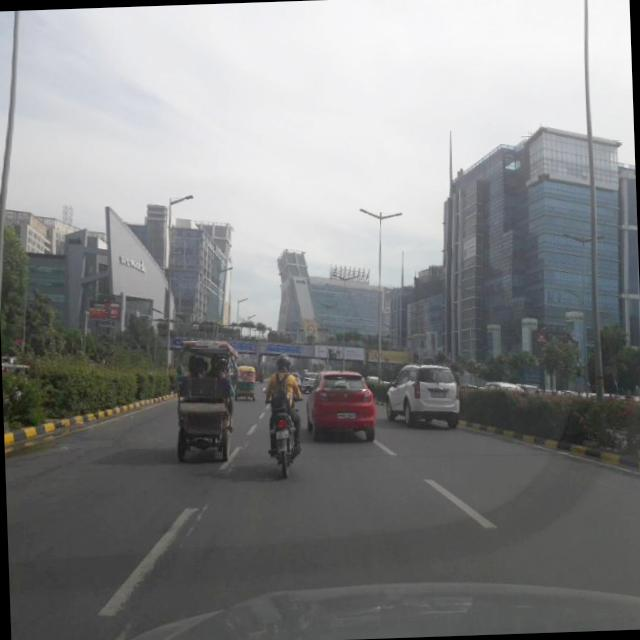crack: (180, 512, 205, 542), (108, 615, 133, 640)
